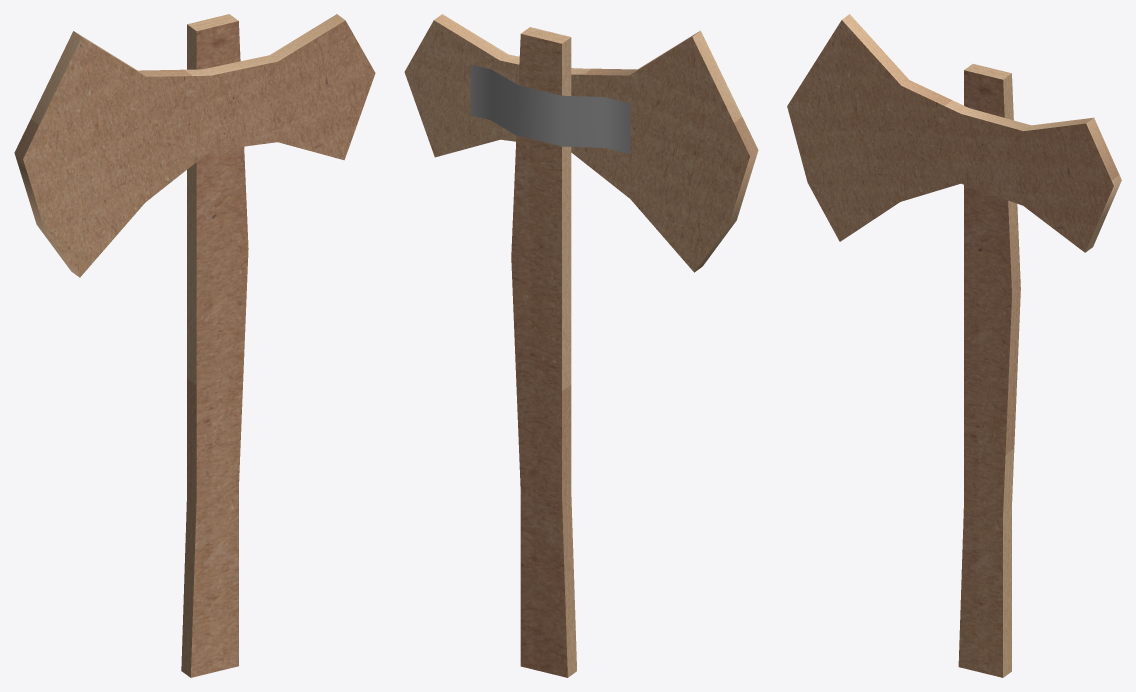
The model's file is Cardboard_Axe.fbx.
3 views of the same model, side by side, from view 1: azimuth 30°, elevation 25°; view 2: azimuth 150°, elevation 25°; view 3: azimuth 330°, elevation 25° (orthographic). The views are drawn at different scales.
Parts seen in each view (by area): view 1: Cardboard_Axe; view 2: Cardboard_Axe; view 3: Cardboard_Axe.
Boxes of the visible parts, left/top/right/bottom form: Cardboard_Axe: left=14, top=14, right=375, bottom=677; Cardboard_Axe: left=404, top=14, right=758, bottom=677; Cardboard_Axe: left=787, top=14, right=1121, bottom=677.
Bounding box in the file's own units: 3421 × 6266 × 305.
